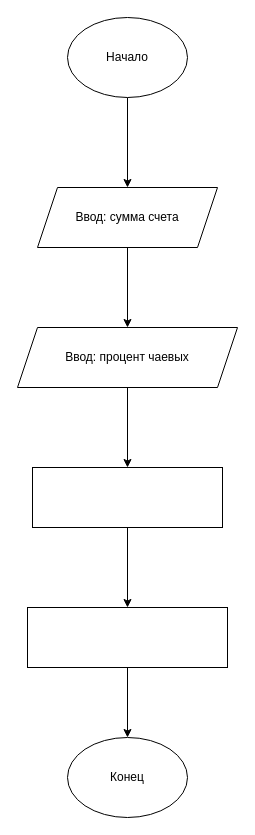
The diagram is 255 pixels wide and 835 high, and some of its shapes have lost their labels. The centre of each missing label's shape, as x and y in pixels:
"Вычесление: чаевые = счет * процент / 100" goes at (127,497).
"Вычисление: итого = счет + чаевые" goes at (127,637).
